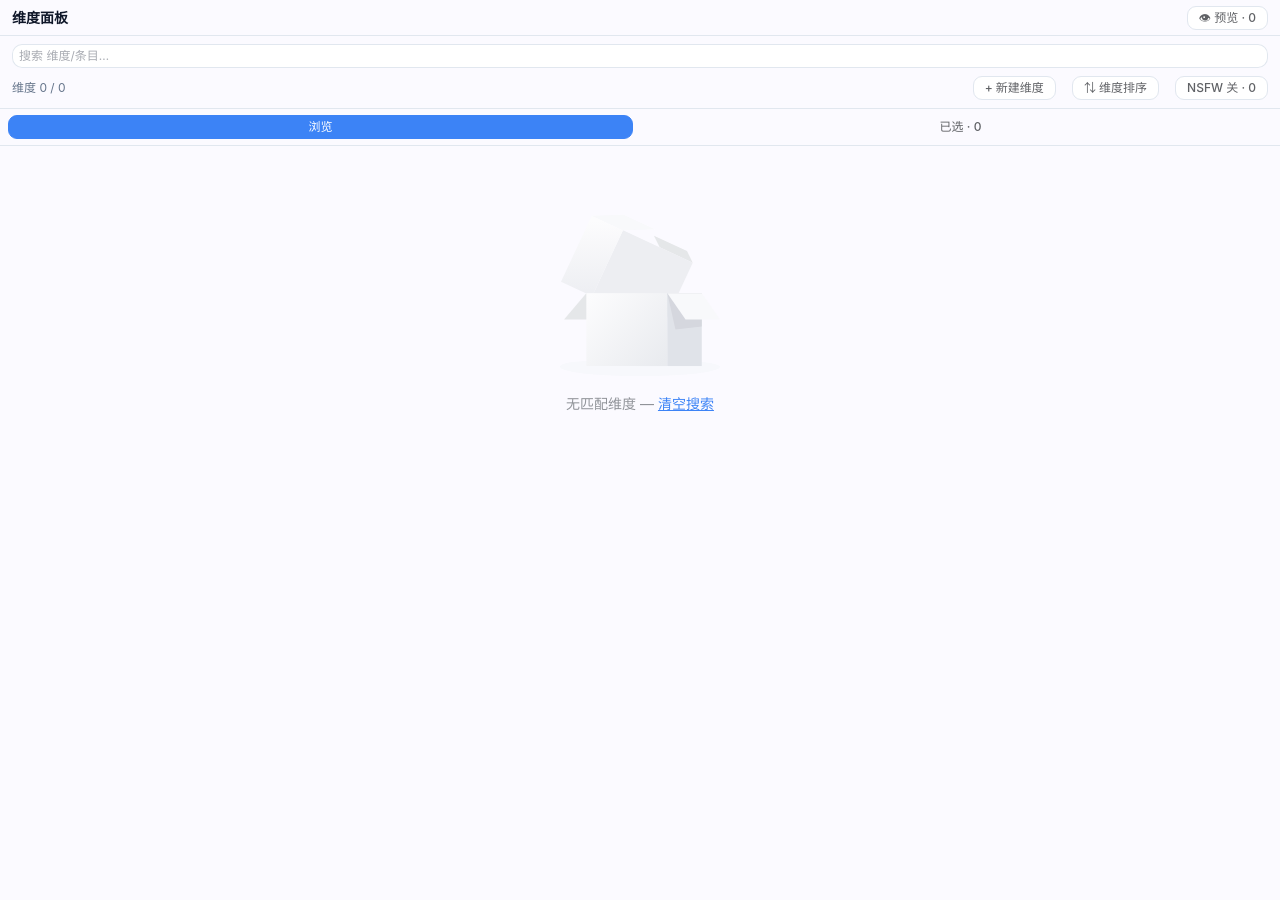
Scenario: DimensionPanel — Need02 维度折叠 + CRUD › 点击 + 新建维度打开弹窗
Click the button with test id "create-dimension-btn": point(1014, 88) top-left (973, 76), bottom-right (1056, 100)
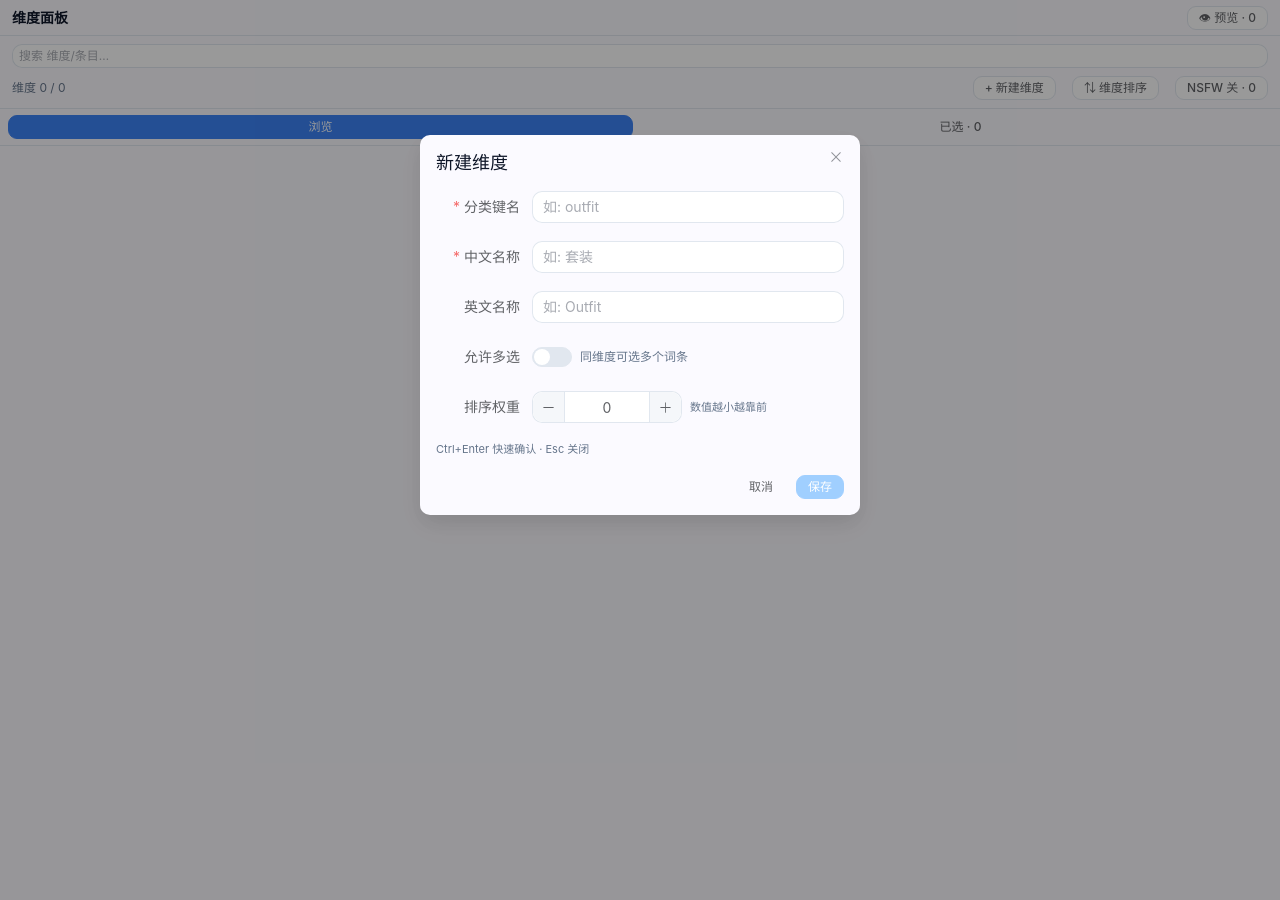
Expected: the element with test id "dimension-edit-dialog" is shown, top-left (420, 135), bottom-right (860, 515)
Expected: the element with test id "dimension-edit-dialog-overlay" is shown
